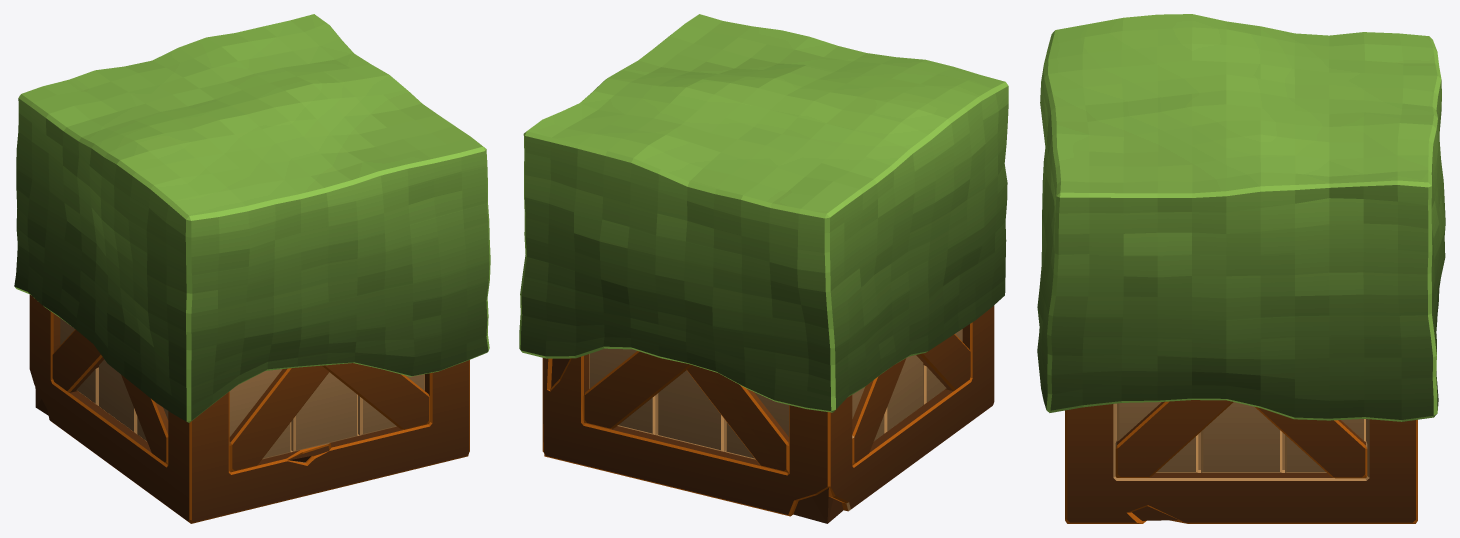
The model's file is Box_Tarp.fbx.
The picture shows the model from 3 angles, left to right: view 1: azimuth 30°, elevation 25°; view 2: azimuth 150°, elevation 25°; view 3: azimuth 270°, elevation 25°; orthographic projection. The views are drawn at different scales.
Parts seen in each view (by area): view 1: Wooden_Box_Tarp; view 2: Wooden_Box_Tarp; view 3: Wooden_Box_Tarp.
Part boxes in pixels (x1,y1,x2,y2): Wooden_Box_Tarp: (14, 14, 490, 523); Wooden_Box_Tarp: (519, 14, 1008, 523); Wooden_Box_Tarp: (1037, 14, 1445, 523).
Bounding box in the file's own units: 400 × 386 × 401.
